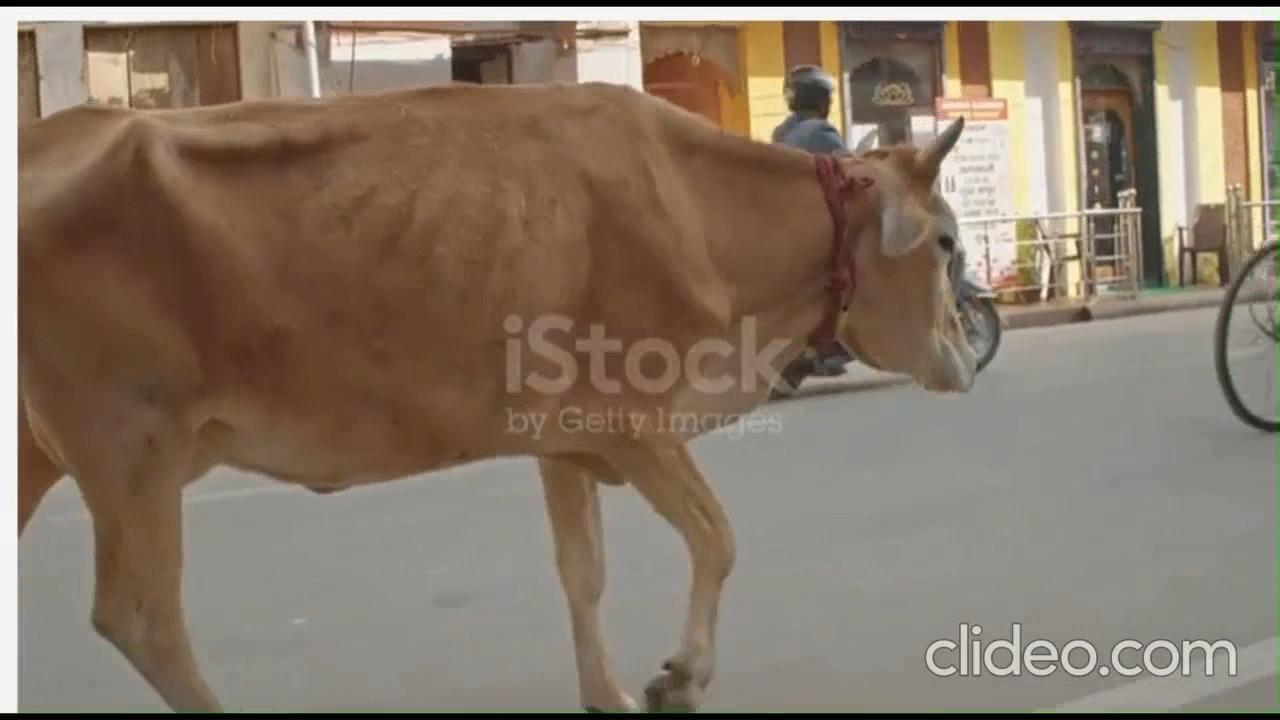Cow: (30, 61, 978, 711)
